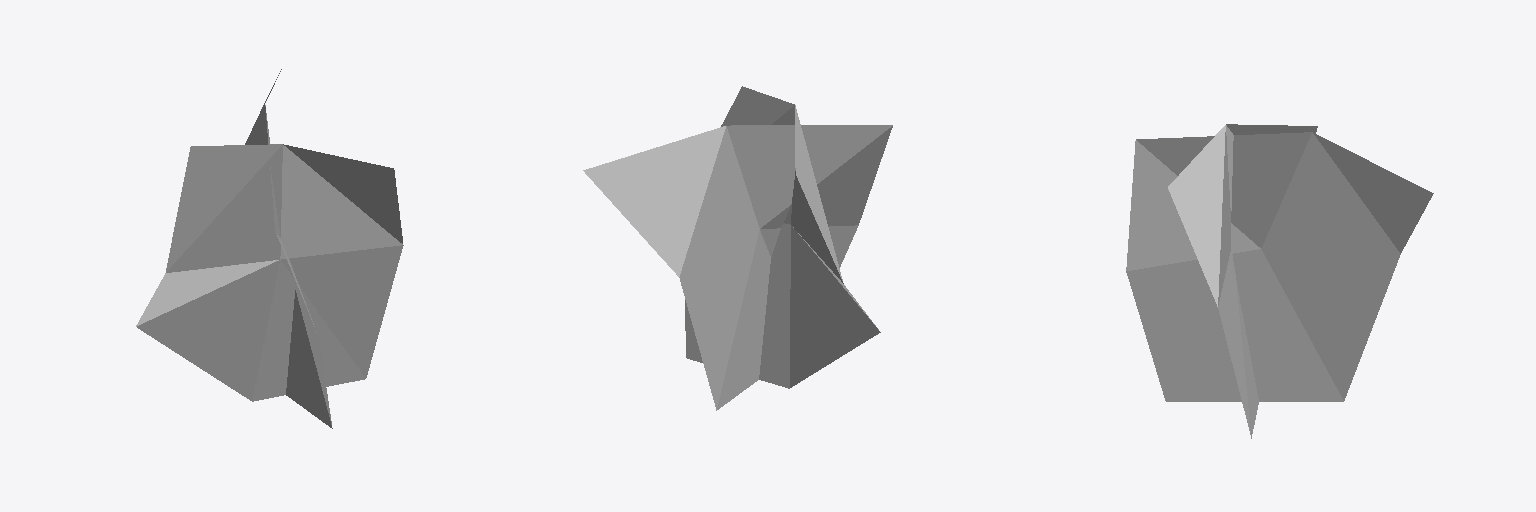
The model's file is Grass08.obj.
3 views of the same model, side by side, from view 1: azimuth 30°, elevation 25°; view 2: azimuth 150°, elevation 25°; view 3: azimuth 270°, elevation 25° (orthographic).
Visible parts, largest first — view 1: Small_bush_2; view 2: Small_bush_2; view 3: Small_bush_2.
Boxes of the visible parts, x1,y1,x2,y2 form: Small_bush_2: [136, 69, 403, 428]; Small_bush_2: [583, 86, 892, 410]; Small_bush_2: [1126, 124, 1433, 438].
Size of the model in its own units: 0.2983 by 0.3329 by 0.3407.